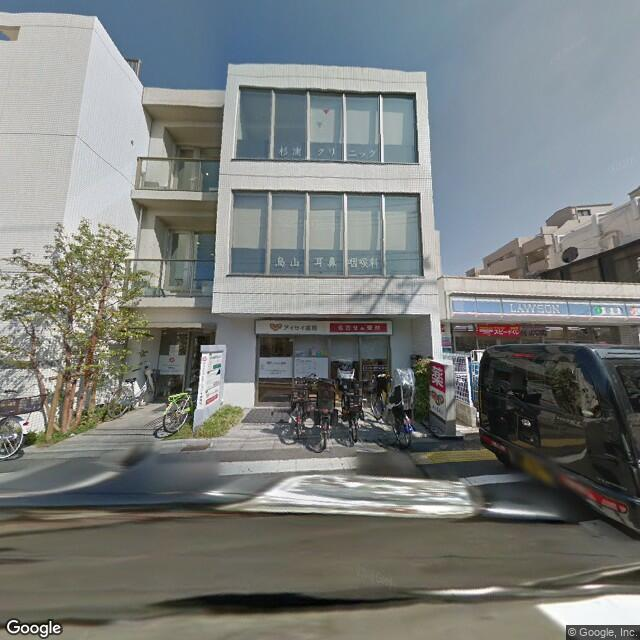lawson: (445, 288, 640, 325)
